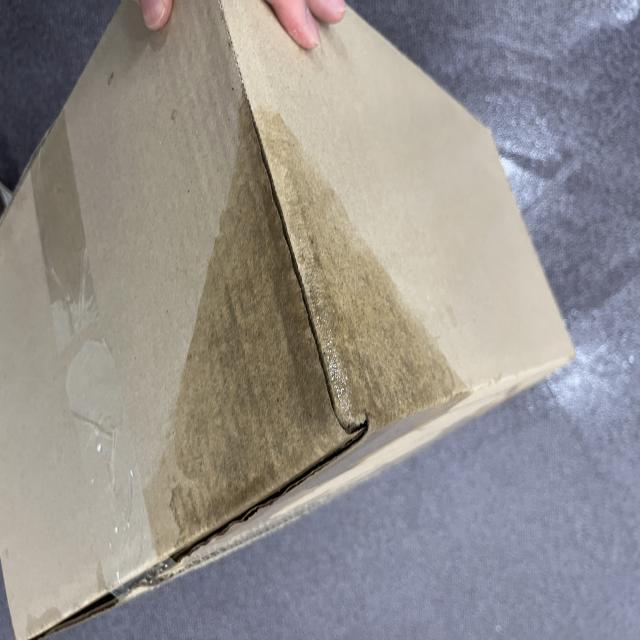wet: (141, 107, 464, 566)
